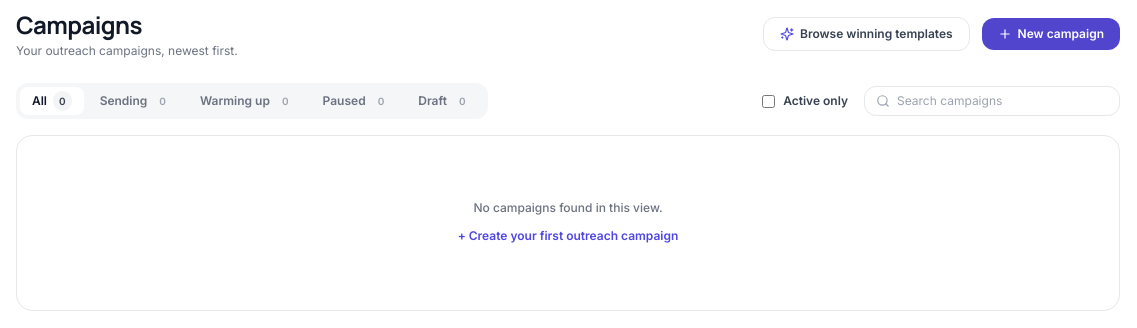
Test: Server-reviewed gallery selection › does not replace missing graph data by an identically named local template
Click the button "Browse winning templates".
click(866, 34)  # box [763,17,970,51]
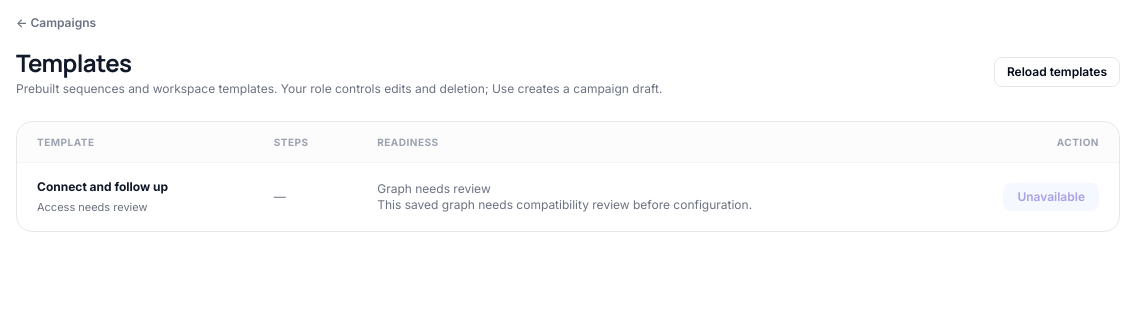
Expected: the button "Unavailable" is disabled, [1003,183,1099,211]
